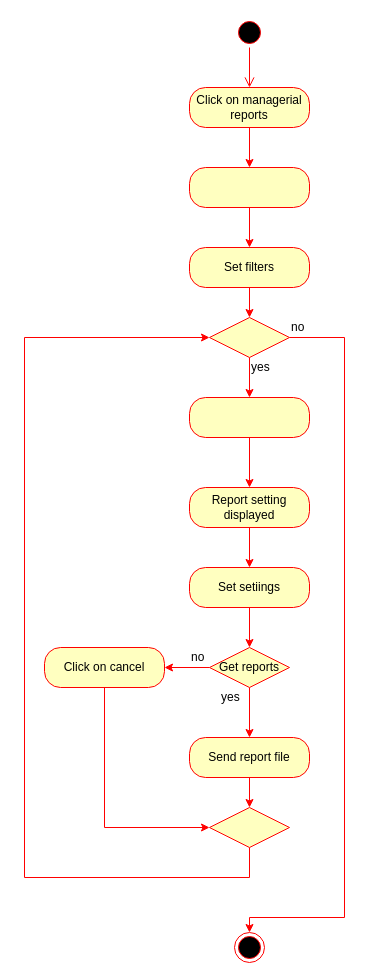
Some shapes in this 370 by 980 pixel diagram are drawn without their labels. The shapes that lost their labels are listed below. From the top down, each one's centre as x and y in pixels, then its label:
pixel 249 187: Managerial reports page displayed
pixel 249 337: Stay on page
pixel 249 417: Select one of reports
pixel 249 827: Merge
